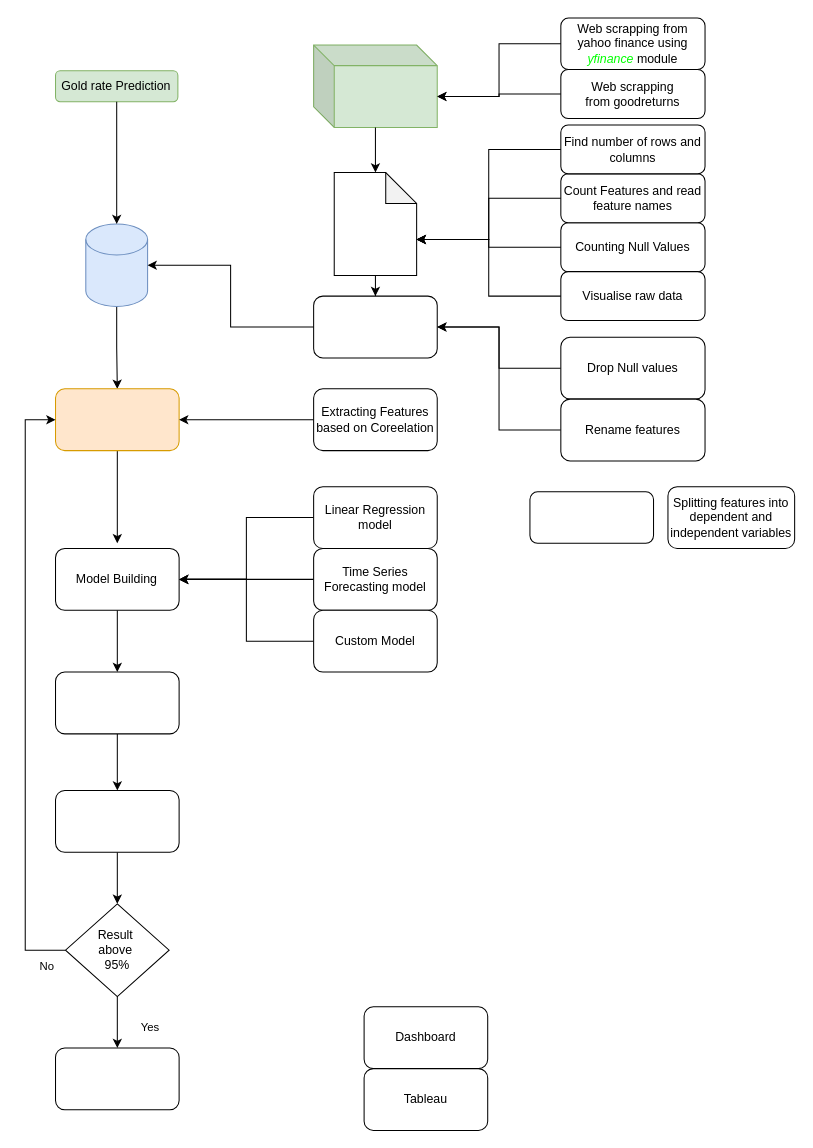
The diagram is 813 pixels wide and 1148 high, and some of its shapes have lost their labels. Here are the shapes that lost their labels. From the top down, the centre of each, then its label:
point (375, 85): Raw Data Collection
point (375, 223): Exploratory Data Analysis
point (116, 264): Database
point (375, 326): Data Cleaning
point (116, 419): Feature Engineering
point (591, 517): Splitting data into training and testing DataFrame
point (116, 702): Model Testing
point (116, 820): Result
point (116, 1078): Data Visualition
